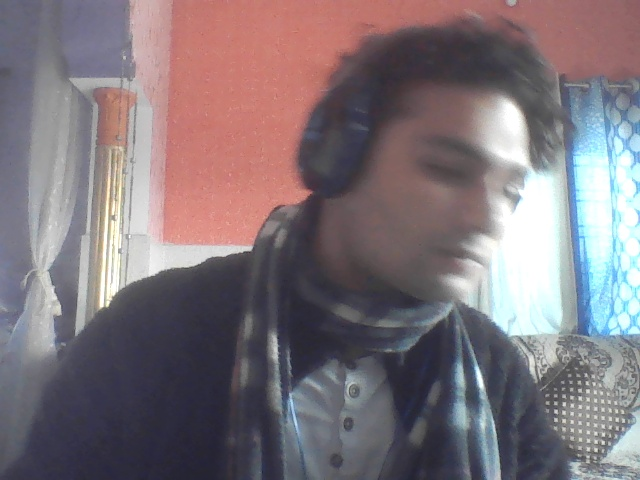real: (323, 8, 547, 325)
